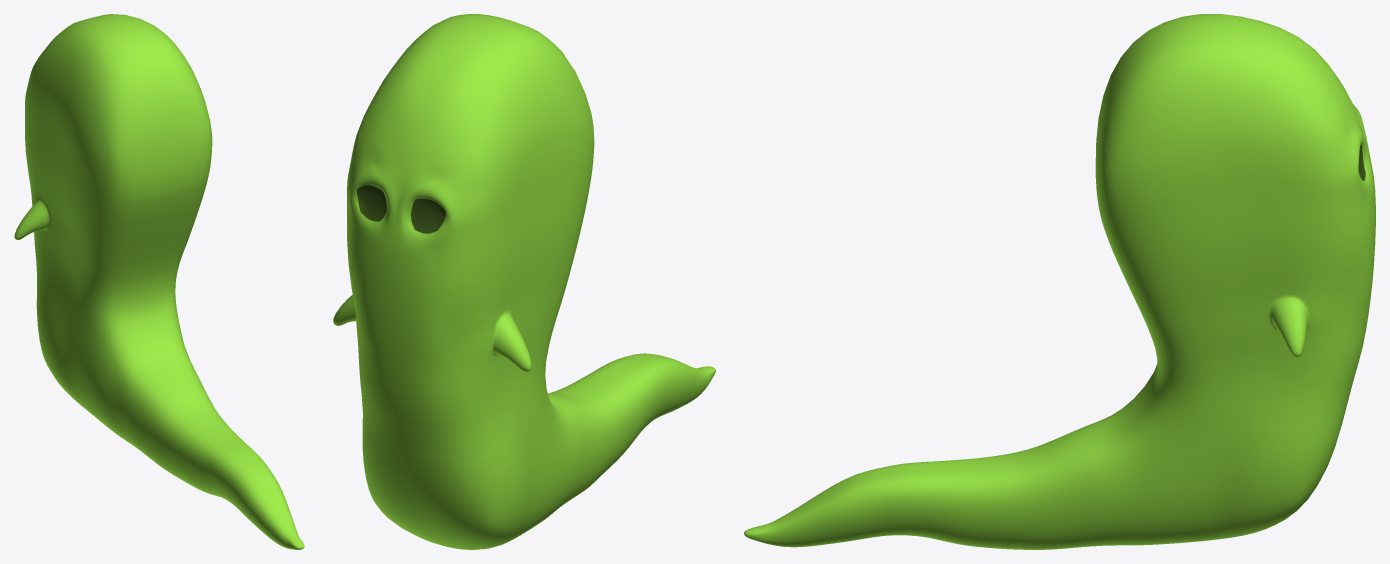
The model's file is Concept_CH_Jelly_8_RigOnly_For_Unity_Scale_5.fbx.
3 renders of one model, left to right at view 1: azimuth 30°, elevation 25°; view 2: azimuth 150°, elevation 25°; view 3: azimuth 270°, elevation 25°, orthographic. The views are drawn at different scales.
Parts seen in each view (by area): view 1: Mesh; view 2: Mesh; view 3: Mesh.
Boxes of the visible parts, <box> form: Mesh: <box>14,14,304,549</box>; Mesh: <box>333,14,715,549</box>; Mesh: <box>744,14,1375,549</box>.
Bounding box in the file's own units: 53.92 × 152 × 138.
